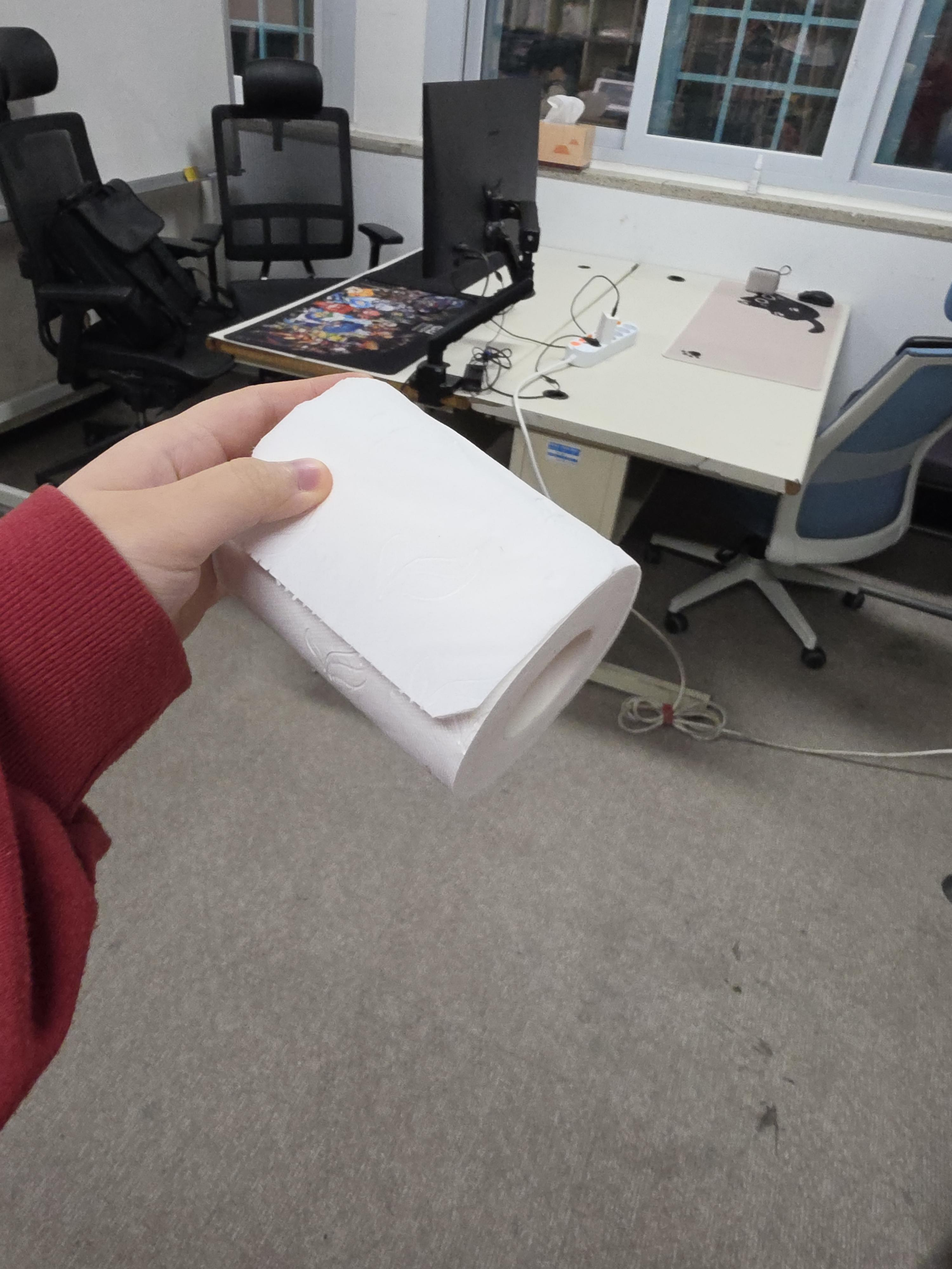tissue: (215, 375, 643, 796), (538, 94, 595, 170)
